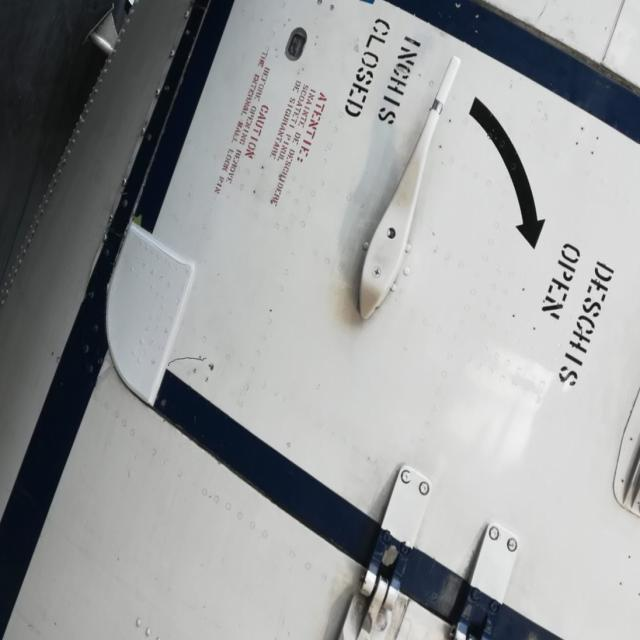crack: (166, 351, 220, 374)
